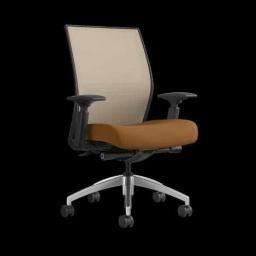Chair: (65, 26, 197, 228)
